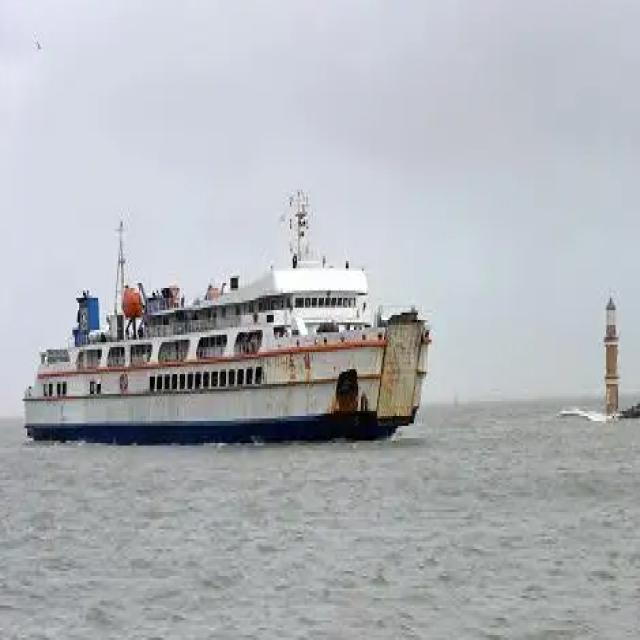passenger ship: (19, 210, 436, 463)
